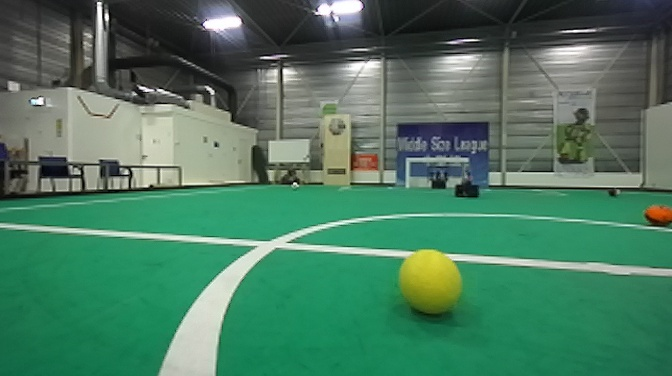ball: (396, 245, 468, 320), (640, 201, 672, 227), (608, 185, 622, 199), (290, 181, 299, 190)
goal: (406, 156, 470, 190)
robot: (453, 162, 481, 199), (424, 162, 452, 188)
